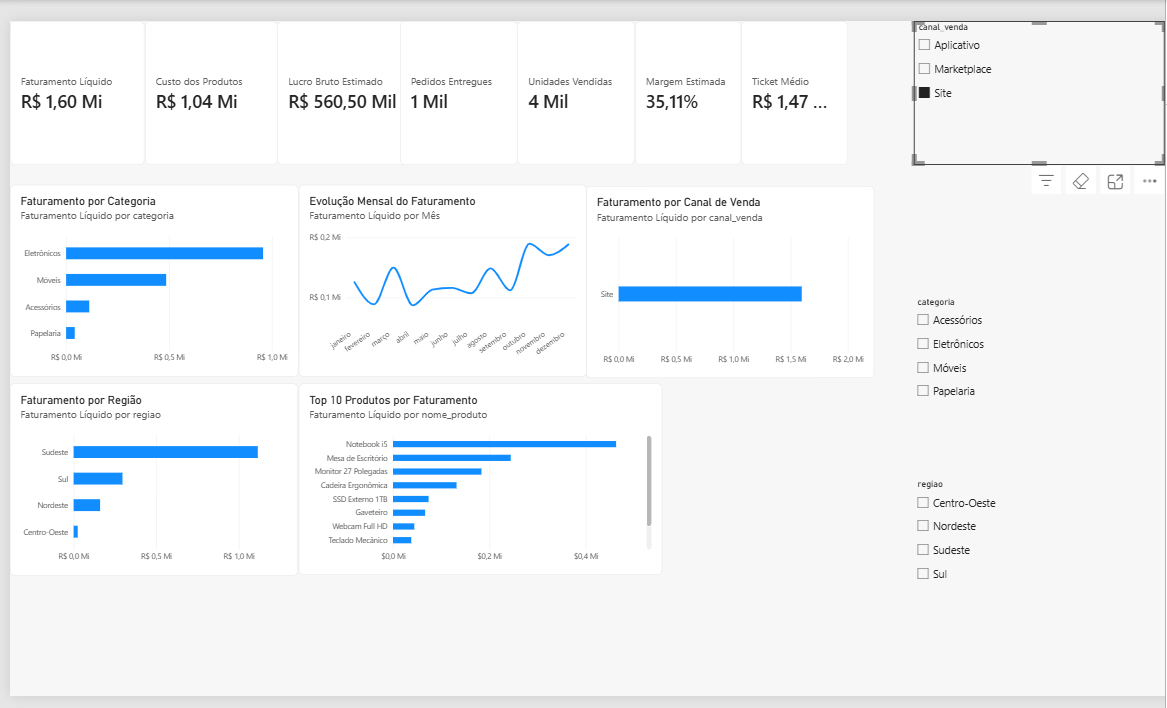

The dashboard page shown, as its layout file describes it:
{"tool":"powerbi","page":{"name":"Página 1","canvas":[1920,1080],"ordinal":0},"visuals":[{"type":"cardVisual","fields":{"Data":["itens_pedido.Faturamento Líquido"]},"box":[0,0,215.7,230],"z":0},{"type":"cardVisual","fields":{"Data":["itens_pedido.Custo dos Produtos"]},"box":[215.7,0,212.9,230],"z":1},{"type":"cardVisual","fields":{"Data":["itens_pedido.Lucro Bruto Estimado"]},"box":[428.6,0,207.1,230],"z":2},{"type":"cardVisual","fields":{"Data":["itens_pedido.Pedidos Entregues"]},"box":[624.3,0,188.6,230],"z":3},{"type":"cardVisual","fields":{"Data":["itens_pedido.Unidades Vendidas"]},"box":[812.9,0,187.1,230],"z":4},{"type":"cardVisual","fields":{"Data":["itens_pedido.Margem Estimada"]},"box":[1000,0,170,230],"z":5},{"type":"cardVisual","fields":{"Data":["itens_pedido.Ticket Médio"]},"box":[1170,0,170,230],"z":6},{"type":"clusteredBarChart","title":"Faturamento por Categoria","fields":{"Category":["produtos.categoria"],"Y":["itens_pedido.Faturamento Líquido"]},"box":[0,262.9,461.4,307.1],"z":7},{"type":"lineChart","title":"Evolução Mensal do Faturamento","fields":{"Category":["pedidos.data_pedido.Variation.Hierarquia de datas.Mês","pedidos.data_pedido.Variation.Hierarquia de datas.Dia"],"Y":["itens_pedido.Faturamento Líquido"]},"box":[461.4,262.9,461,307],"z":8},{"type":"clusteredBarChart","title":"Faturamento por Canal de Venda","fields":{"Category":["pedidos.canal_venda"],"Y":["itens_pedido.Faturamento Líquido"]},"box":[922.9,264.3,461,307],"z":9},{"type":"clusteredBarChart","title":"Faturamento por Região","fields":{"Category":["clientes.regiao"],"Y":["itens_pedido.Faturamento Líquido"]},"box":[0,580,461,307],"z":10},{"type":"clusteredBarChart","title":"Top 10 Produtos por Faturamento","fields":{"Category":["produtos.nome_produto"],"Y":["itens_pedido.Faturamento Líquido"]},"box":[461.7,580,581.7,306.7],"z":11},{"type":"slicer","fields":{"Values":["clientes.regiao"]},"box":[1228.3,641.7,156.7,181.7],"z":12},{"type":"slicer","fields":{"Values":["produtos.categoria"]},"box":[1053.3,733.3,201.7,171.7],"z":13},{"type":"slicer","fields":{"Values":["pedidos.canal_venda"]},"box":[1051.7,580,288.3,230],"z":14}]}

Visuals, with their boxes on the page's 1920x1080 design canvas (x1, y1, x2, y2). These are canvas units, not pixel positions in the 1167x708 screenshot, which may show the page scaled, cropped or inside an application window:
cardVisual - itens_pedido.Faturamento Líquido: l=0, t=0, r=216, b=230
cardVisual - itens_pedido.Custo dos Produtos: l=216, t=0, r=429, b=230
cardVisual - itens_pedido.Lucro Bruto Estimado: l=429, t=0, r=636, b=230
cardVisual - itens_pedido.Pedidos Entregues: l=624, t=0, r=813, b=230
cardVisual - itens_pedido.Unidades Vendidas: l=813, t=0, r=1000, b=230
cardVisual - itens_pedido.Margem Estimada: l=1000, t=0, r=1170, b=230
cardVisual - itens_pedido.Ticket Médio: l=1170, t=0, r=1340, b=230
"Faturamento por Categoria" clusteredBarChart: l=0, t=263, r=461, b=570
"Evolução Mensal do Faturamento" lineChart: l=461, t=263, r=922, b=570
"Faturamento por Canal de Venda" clusteredBarChart: l=923, t=264, r=1384, b=571
"Faturamento por Região" clusteredBarChart: l=0, t=580, r=461, b=887
"Top 10 Produtos por Faturamento" clusteredBarChart: l=462, t=580, r=1043, b=887
slicer - clientes.regiao: l=1228, t=642, r=1385, b=823
slicer - produtos.categoria: l=1053, t=733, r=1255, b=905
slicer - pedidos.canal_venda: l=1052, t=580, r=1340, b=810
